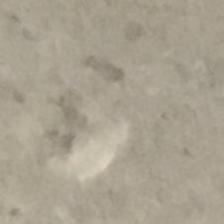Non_Crack: (25, 12, 224, 216)
